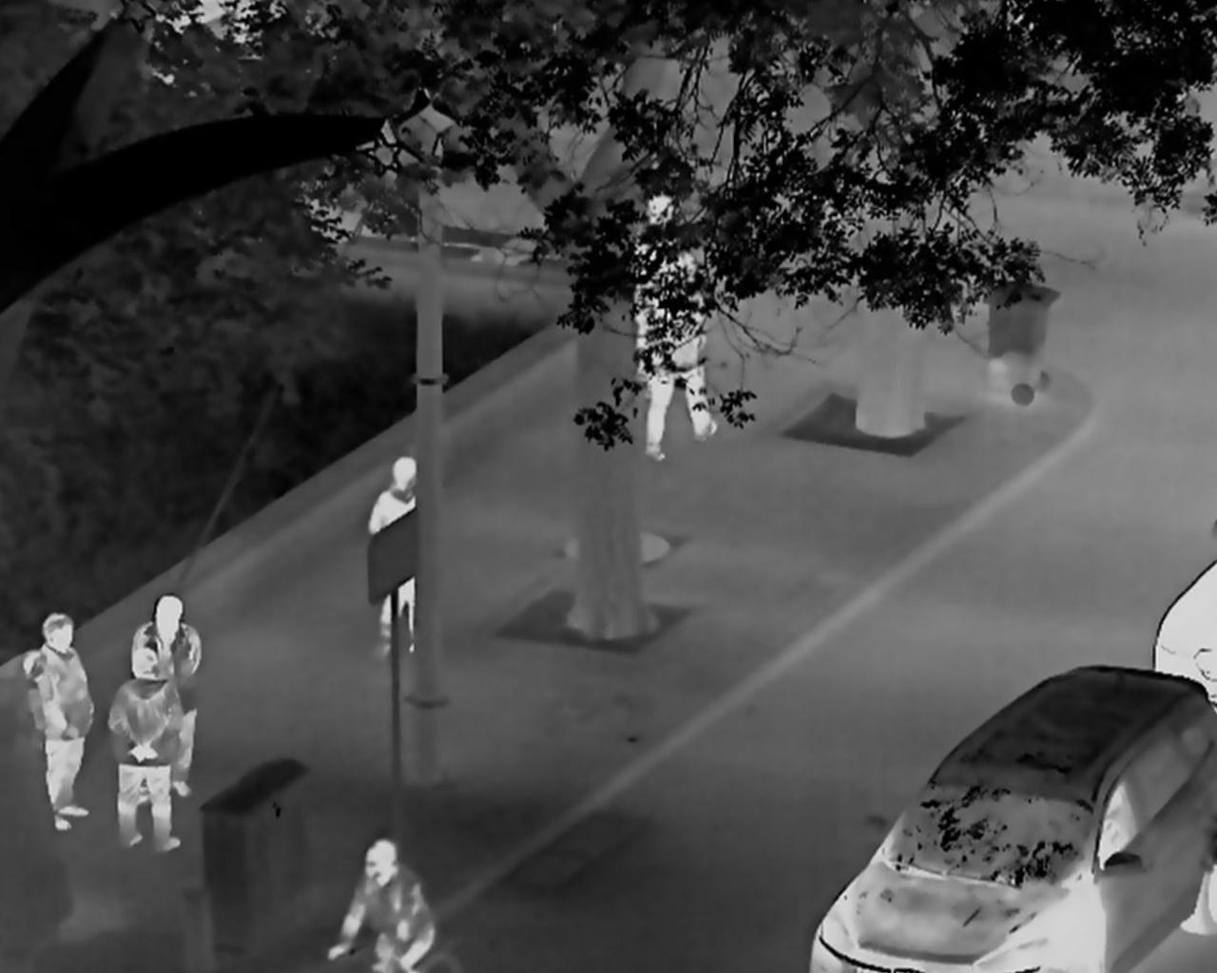person: (641, 252, 719, 463), (106, 648, 183, 855), (127, 592, 203, 799), (326, 837, 436, 973), (35, 612, 94, 832), (630, 193, 688, 389), (366, 457, 418, 660), (19, 649, 48, 744)
